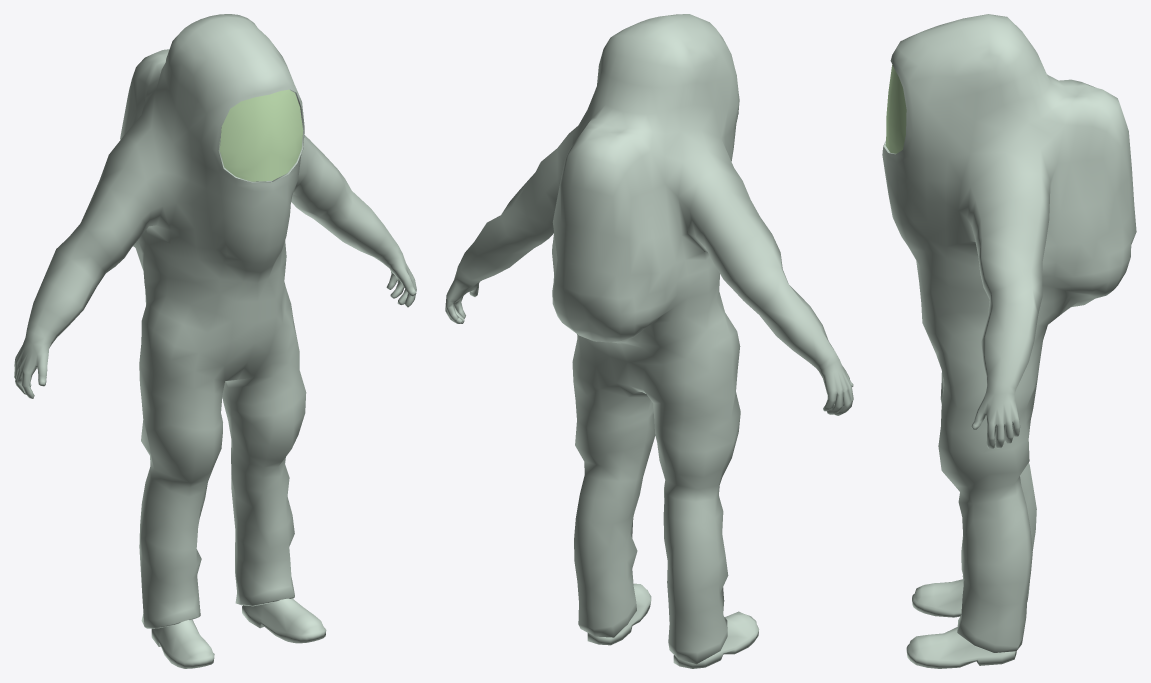
The model's file is hazmat.fbx.
The picture shows the model from 3 angles, left to right: view 1: azimuth 30°, elevation 25°; view 2: azimuth 150°, elevation 25°; view 3: azimuth 270°, elevation 25°; orthographic projection.
Visible parts, largest first — view 1: cim_ceda_full, cim_faceplate; view 2: cim_ceda_full; view 3: cim_ceda_full, cim_faceplate.
Boxes of the visible parts, x1=… form: cim_ceda_full: x1=14, y1=14, x2=416, y2=668; cim_faceplate: x1=218, y1=89, x2=303, y2=181; cim_ceda_full: x1=445, y1=14, x2=853, y2=668; cim_ceda_full: x1=882, y1=14, x2=1136, y2=668; cim_faceplate: x1=885, y1=65, x2=906, y2=153.
Bounding box in the file's own units: 5201 × 7656 × 2867.
